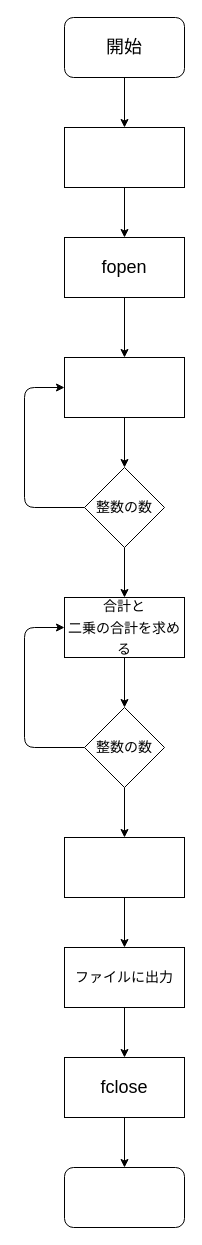
The diagram is 202 pixels wide and 1245 high, and some of its shapes have lost their labels. Here are the shapes that lost their labels. From the top down, the centre of each, then its label:
the point at 124,157: 初期化
the point at 124,387: fscanf
the point at 124,867: 平均と二乗平均 分散，標準偏差 を求める
the point at 124,1197: 終了
